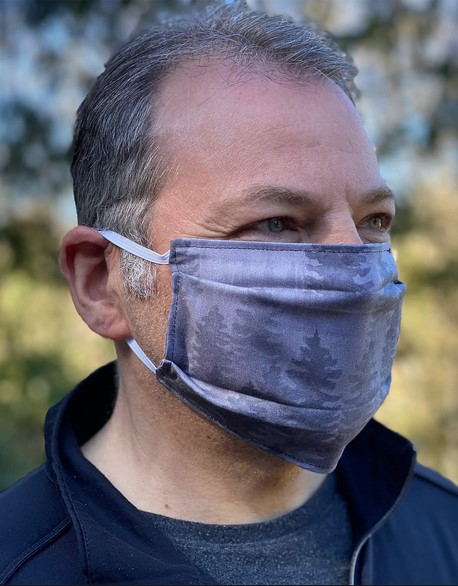face_with_mask: (62, 21, 410, 483)
